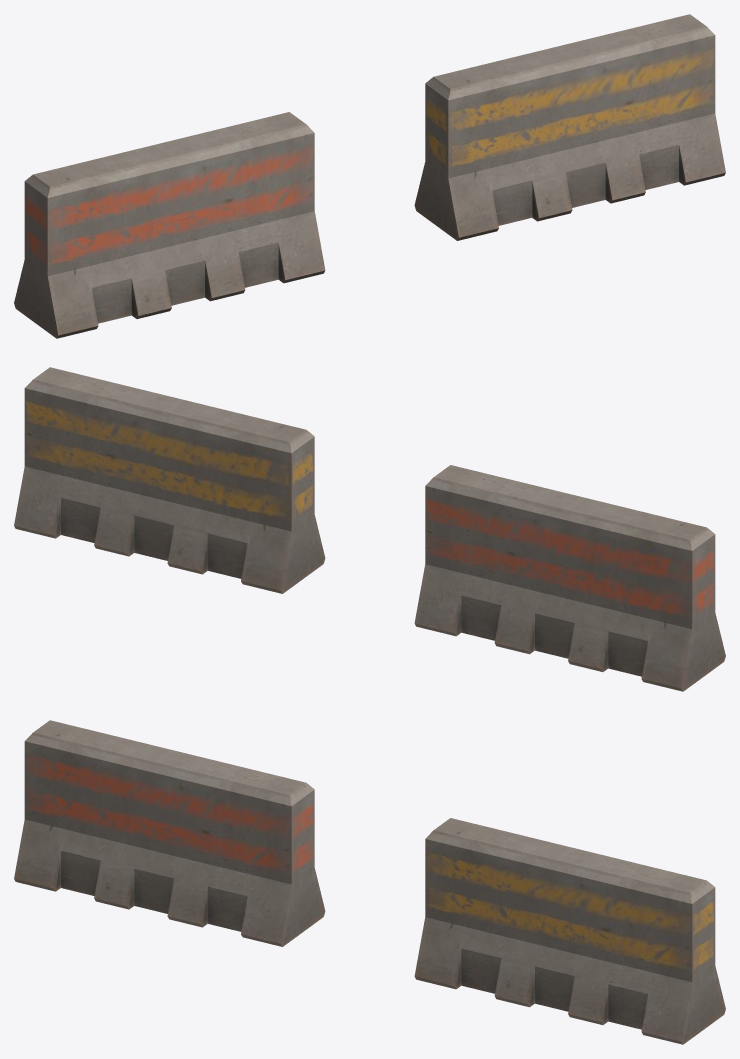
The model's file is concrete_barrier.glb.
The picture shows the model from 3 angles, top to bottom: view 1: azimuth 30°, elevation 25°; view 2: azimuth 150°, elevation 25°; view 3: azimuth 330°, elevation 25°; orthographic projection.
Visible parts, largest first — view 1: concrete_barrier.001; view 2: concrete_barrier.001; view 3: concrete_barrier.001.
Part boxes in pixels (bbox=[...]): concrete_barrier.001: bbox=[14, 14, 725, 338]; concrete_barrier.001: bbox=[14, 367, 725, 691]; concrete_barrier.001: bbox=[14, 720, 725, 1044].
Bounding box in the file's own units: 4.5 × 0.9135 × 0.5186.
Materials: 2 (2 with a texture image).
